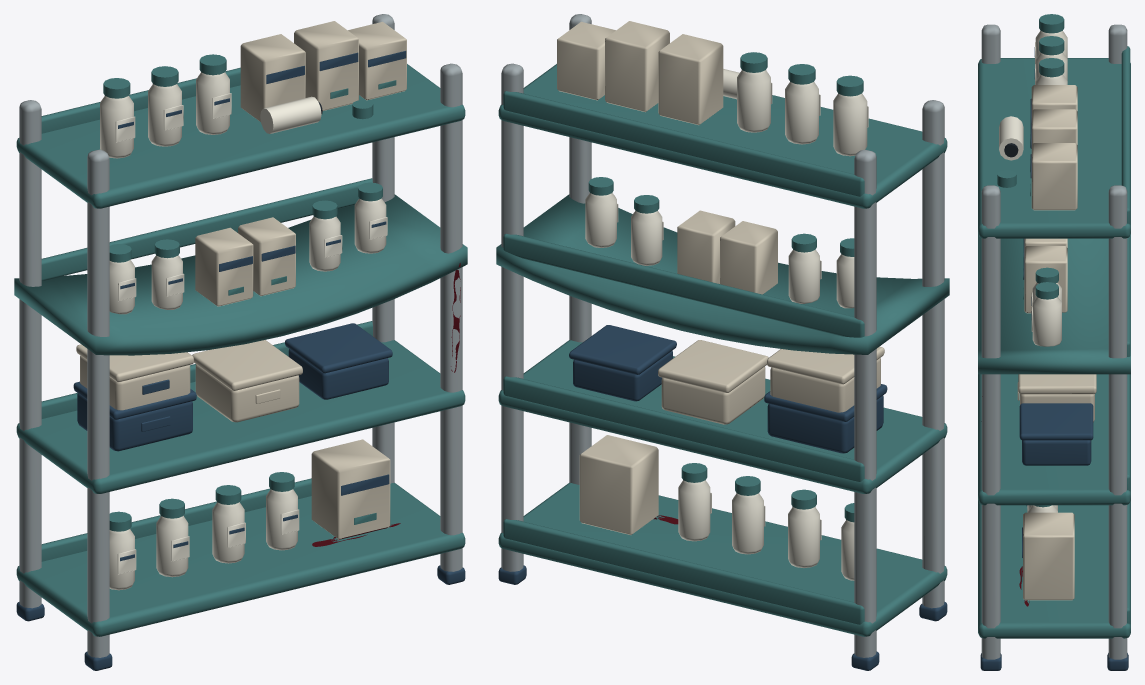
File: pharmacy_medicine_shelf.glb
The picture shows the model from 3 angles, left to right: view 1: azimuth 30°, elevation 25°; view 2: azimuth 150°, elevation 25°; view 3: azimuth 270°, elevation 25°; orthographic projection. The views are drawn at different scales.
Parts seen in each view (by area): view 1: Static_Shell_Mesh; view 2: Static_Shell_Mesh; view 3: Static_Shell_Mesh.
Part boxes in pixels (x1,y1,x2,y2): Static_Shell_Mesh: [14, 14, 467, 670]; Static_Shell_Mesh: [496, 14, 949, 670]; Static_Shell_Mesh: [978, 14, 1130, 670].
Bounding box in the file's own units: 1.39 × 1.95 × 0.5305.
